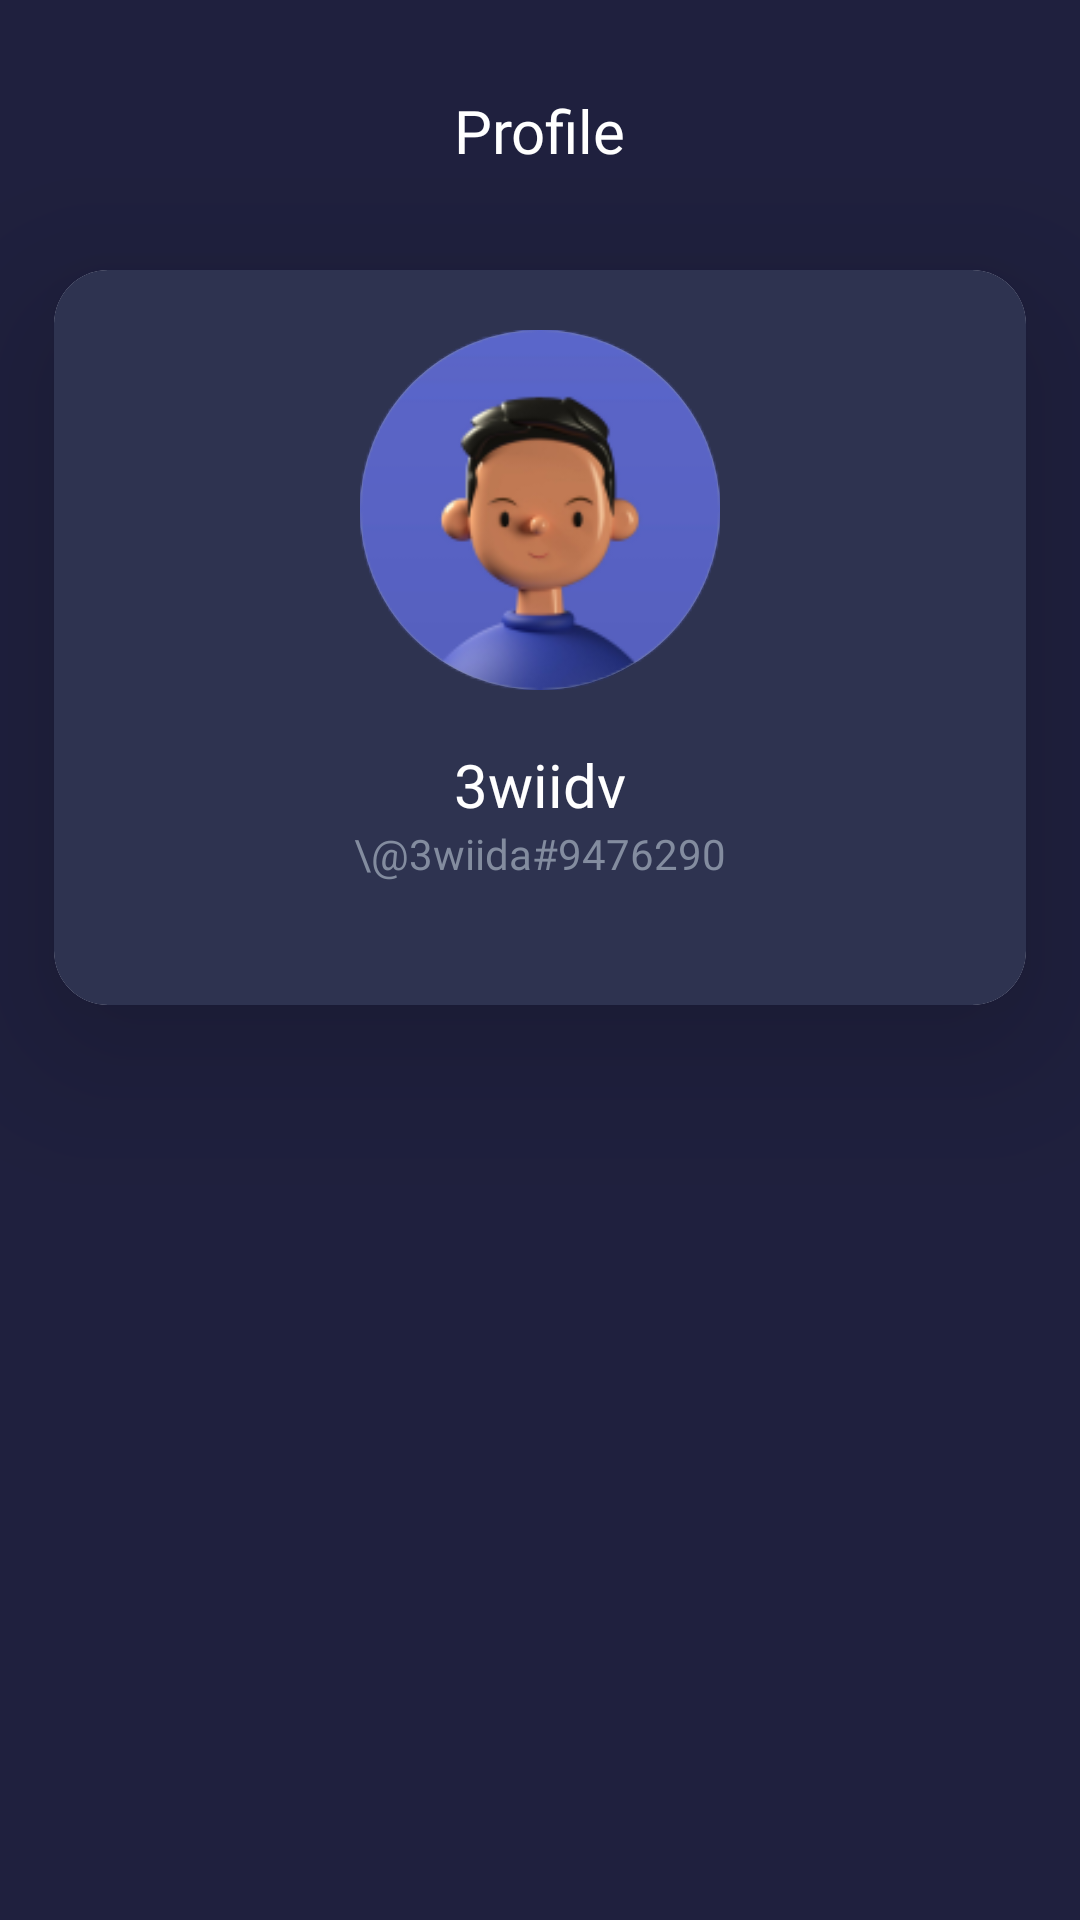

Locate icon controls on the screen. Image size 1080*1920, boxes as (x1, y1, x2, y2).
user place holder: (360, 330, 720, 690)
